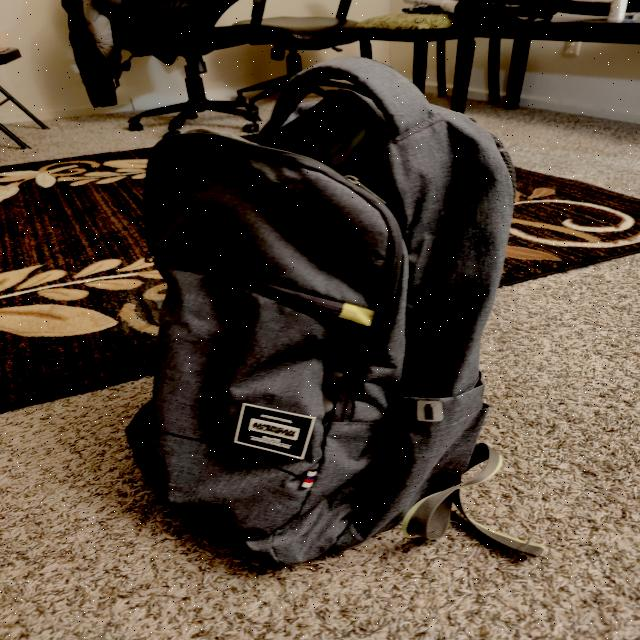bag: (164, 60, 514, 564)
